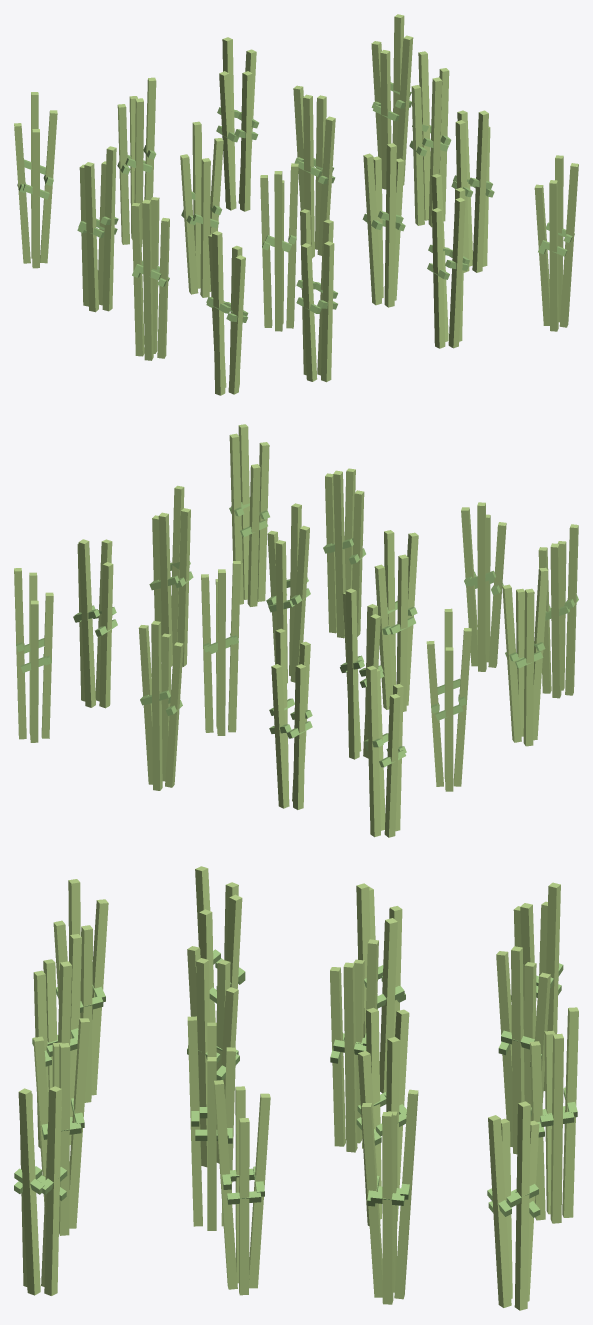
File: crop_wheat_growing.glb
3 renders of one model, top to bottom at view 1: azimuth 30°, elevation 25°; view 2: azimuth 150°, elevation 25°; view 3: azimuth 270°, elevation 25°, orthographic. The views are drawn at different scales.
Parts seen in each view (by area): view 1: wheat_green, leaf; view 2: wheat_green, leaf; view 3: wheat_green, leaf.
Part boxes in pixels (x1,y1,x2,y2): wheat_green: (14,14,578,395); leaf: (17,82,574,322); wheat_green: (14,424,578,837); leaf: (16,497,578,767); wheat_green: (18,866,578,1310); leaf: (14,949,577,1217).
Size of the model in its own units: 0.8657 by 0.3403 by 0.8453.
